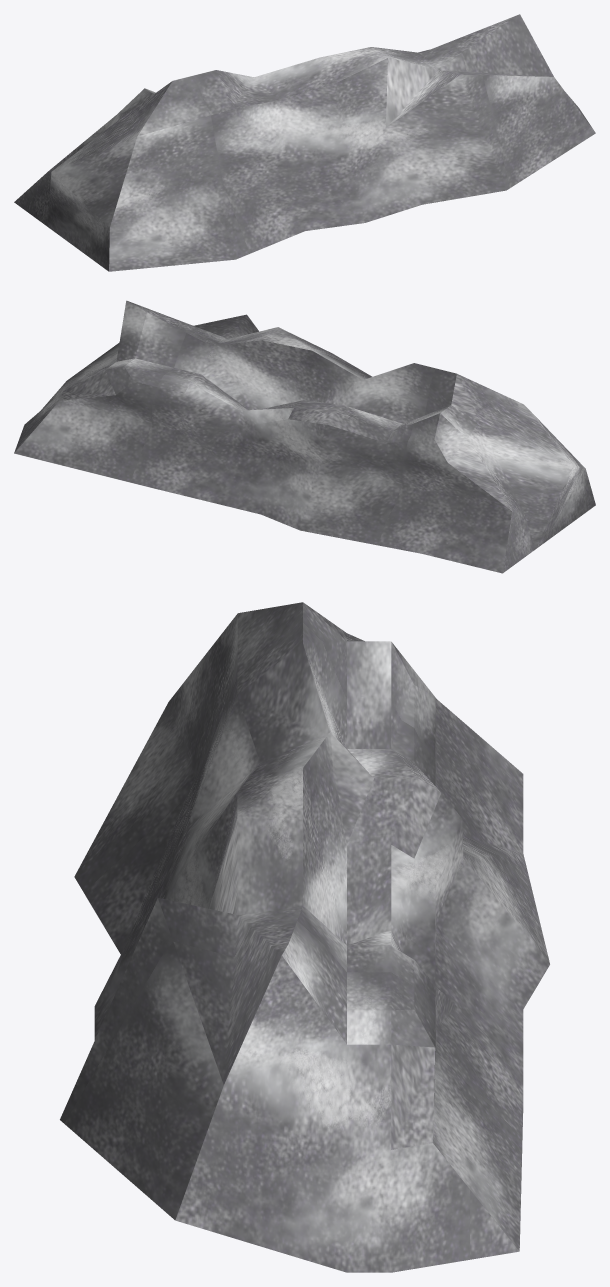
The model's file is MountainB3.FBX.
3 views of the same model, one above another, from view 1: azimuth 30°, elevation 25°; view 2: azimuth 150°, elevation 25°; view 3: azimuth 270°, elevation 25° (orthographic). The views are drawn at different scales.
Visible parts, largest first — view 1: MountainLB3; view 2: MountainLB3; view 3: MountainLB3.
Boxes of the visible parts, x1,y1,x2,y2 form: MountainLB3: [14, 14, 595, 271]; MountainLB3: [14, 300, 595, 573]; MountainLB3: [60, 602, 549, 1272].
Size of the model in its own units: 369 by 90.28 by 148.
Materials: 1 (1 with a texture image).
